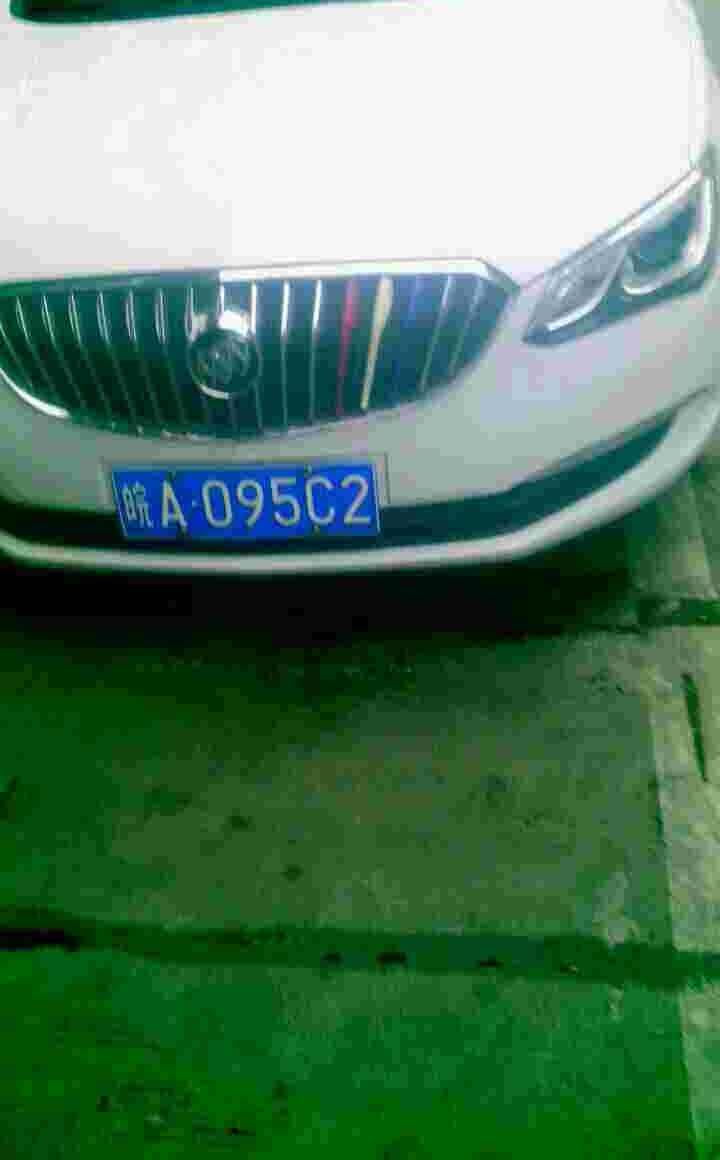car: (99, 468, 386, 534)
